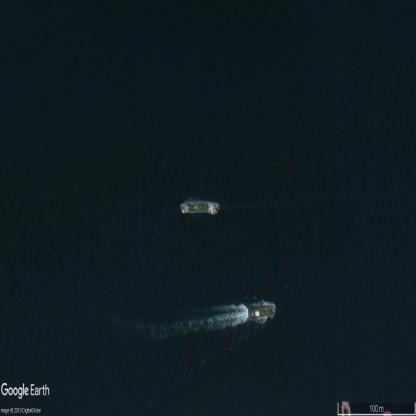ship: (179, 198, 220, 215), (248, 303, 276, 321)
